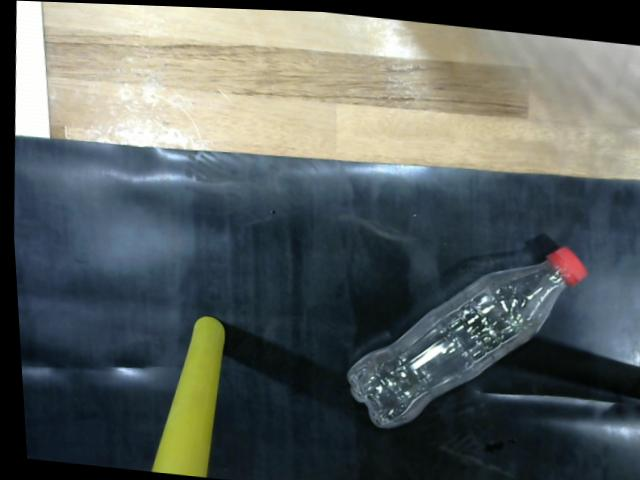bottle: (335, 235, 594, 437)
